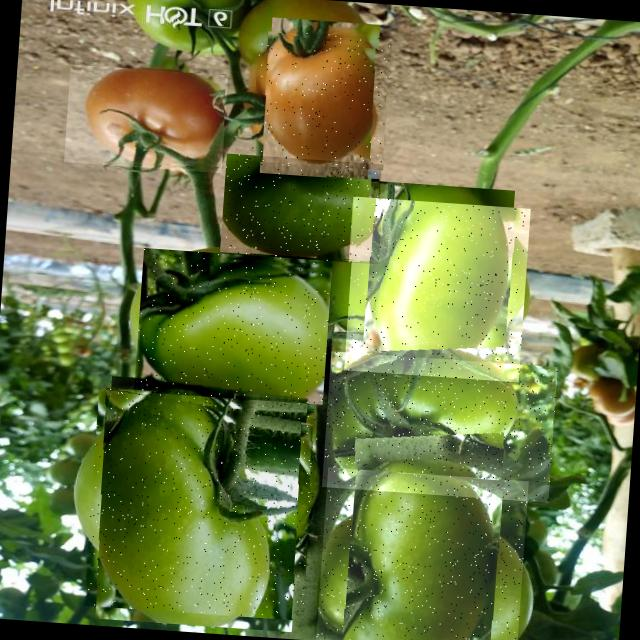Ripe Tomato: (250, 29, 392, 170), (64, 64, 228, 173)
Unripe Tomato: (83, 386, 320, 620), (315, 466, 528, 640), (322, 350, 558, 502), (344, 196, 530, 382), (134, 248, 332, 404), (220, 153, 384, 264)
